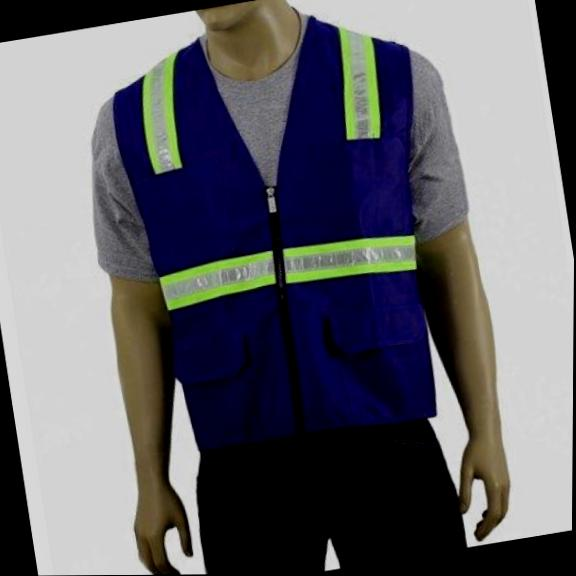safety_vest: (100, 0, 468, 463)
